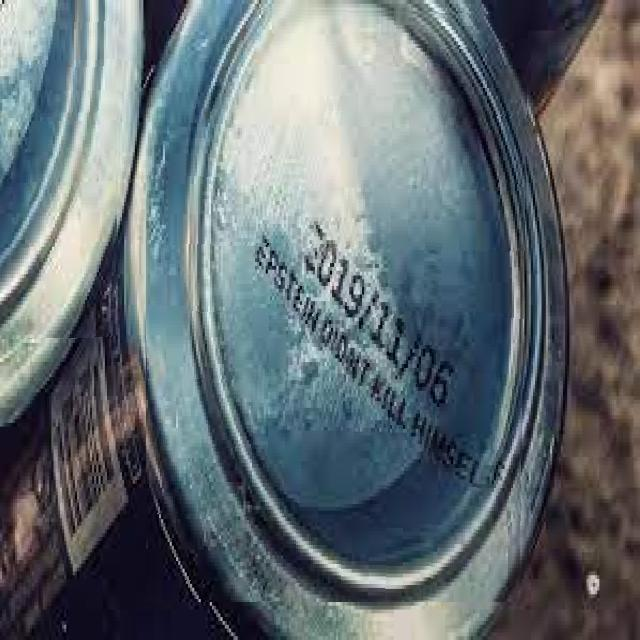Cans: (146, 6, 528, 602), (0, 0, 122, 339)
